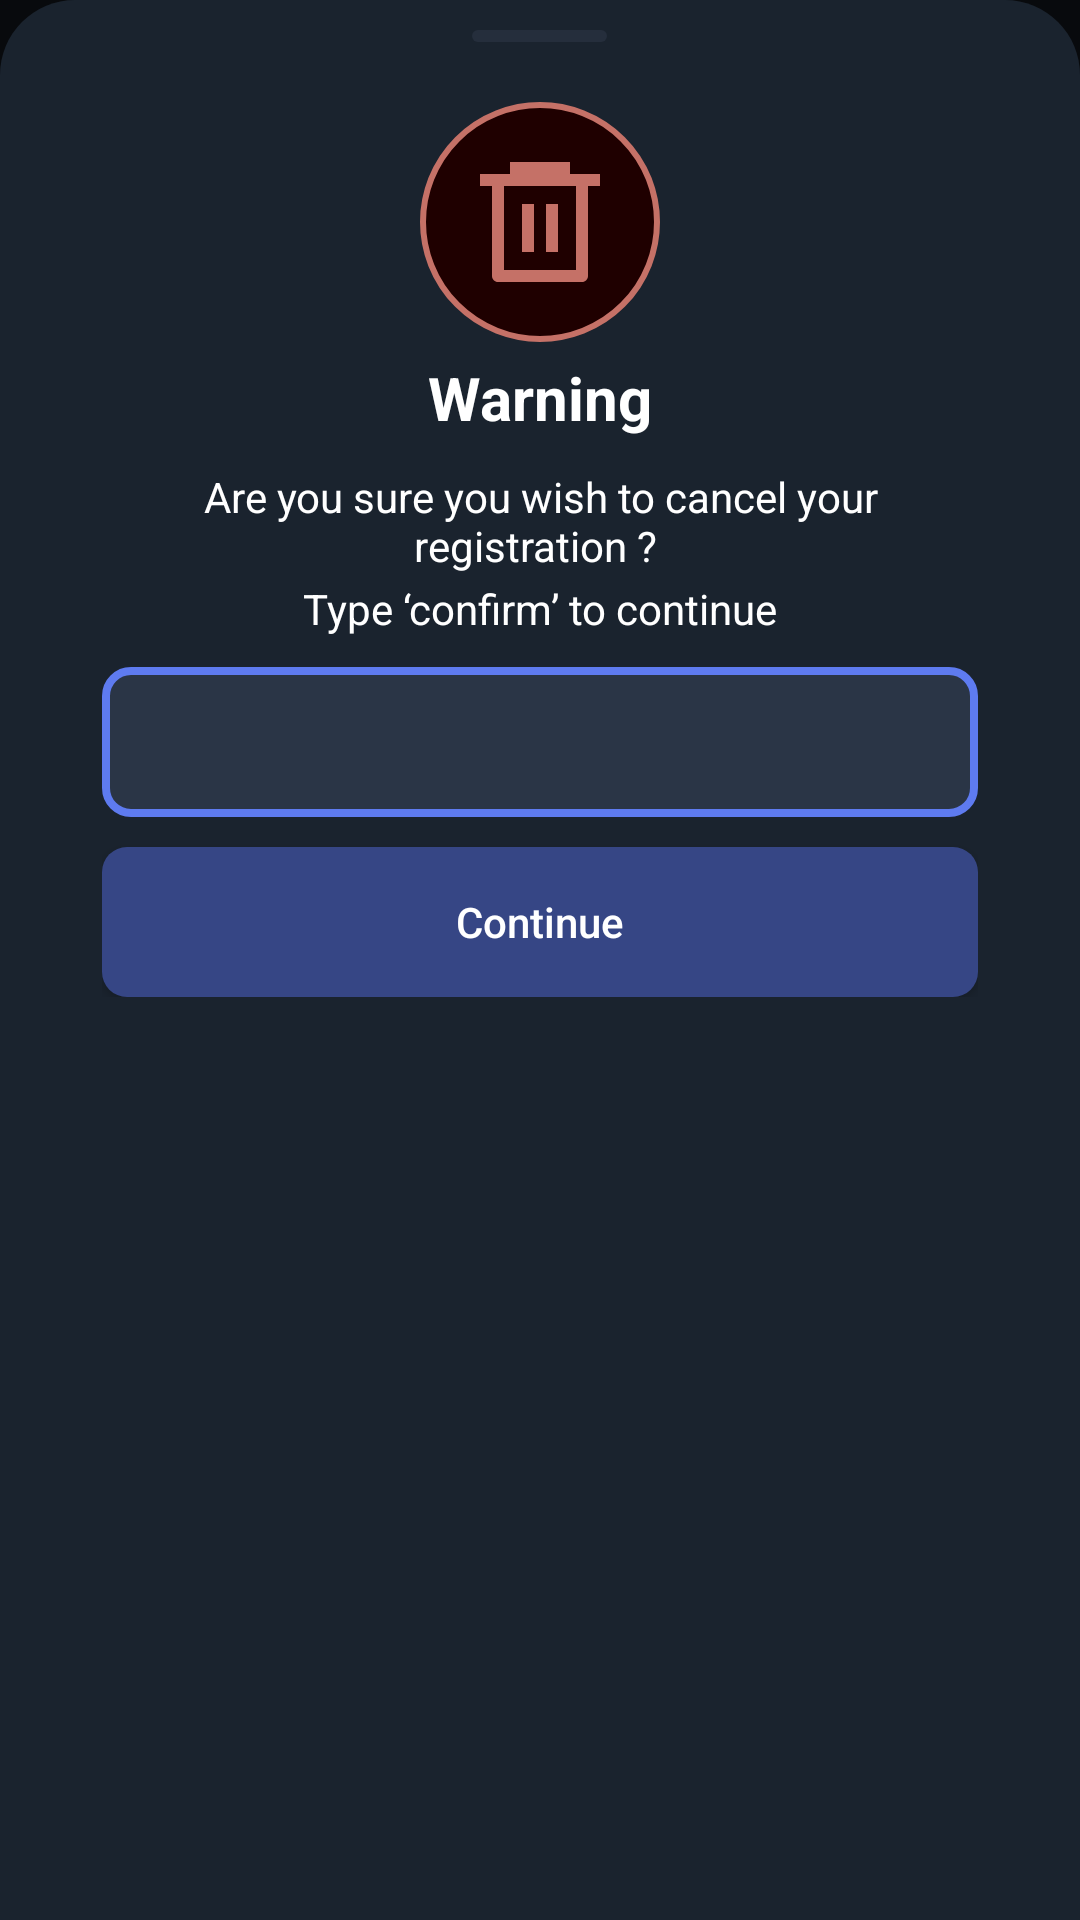

Named icons in this screenshot (1080 x 1920) and their bounding boxes, [left=x1, top=y1, right=x2, bottom=y2]:
groupdiscard: [left=420, top=102, right=660, bottom=342]
